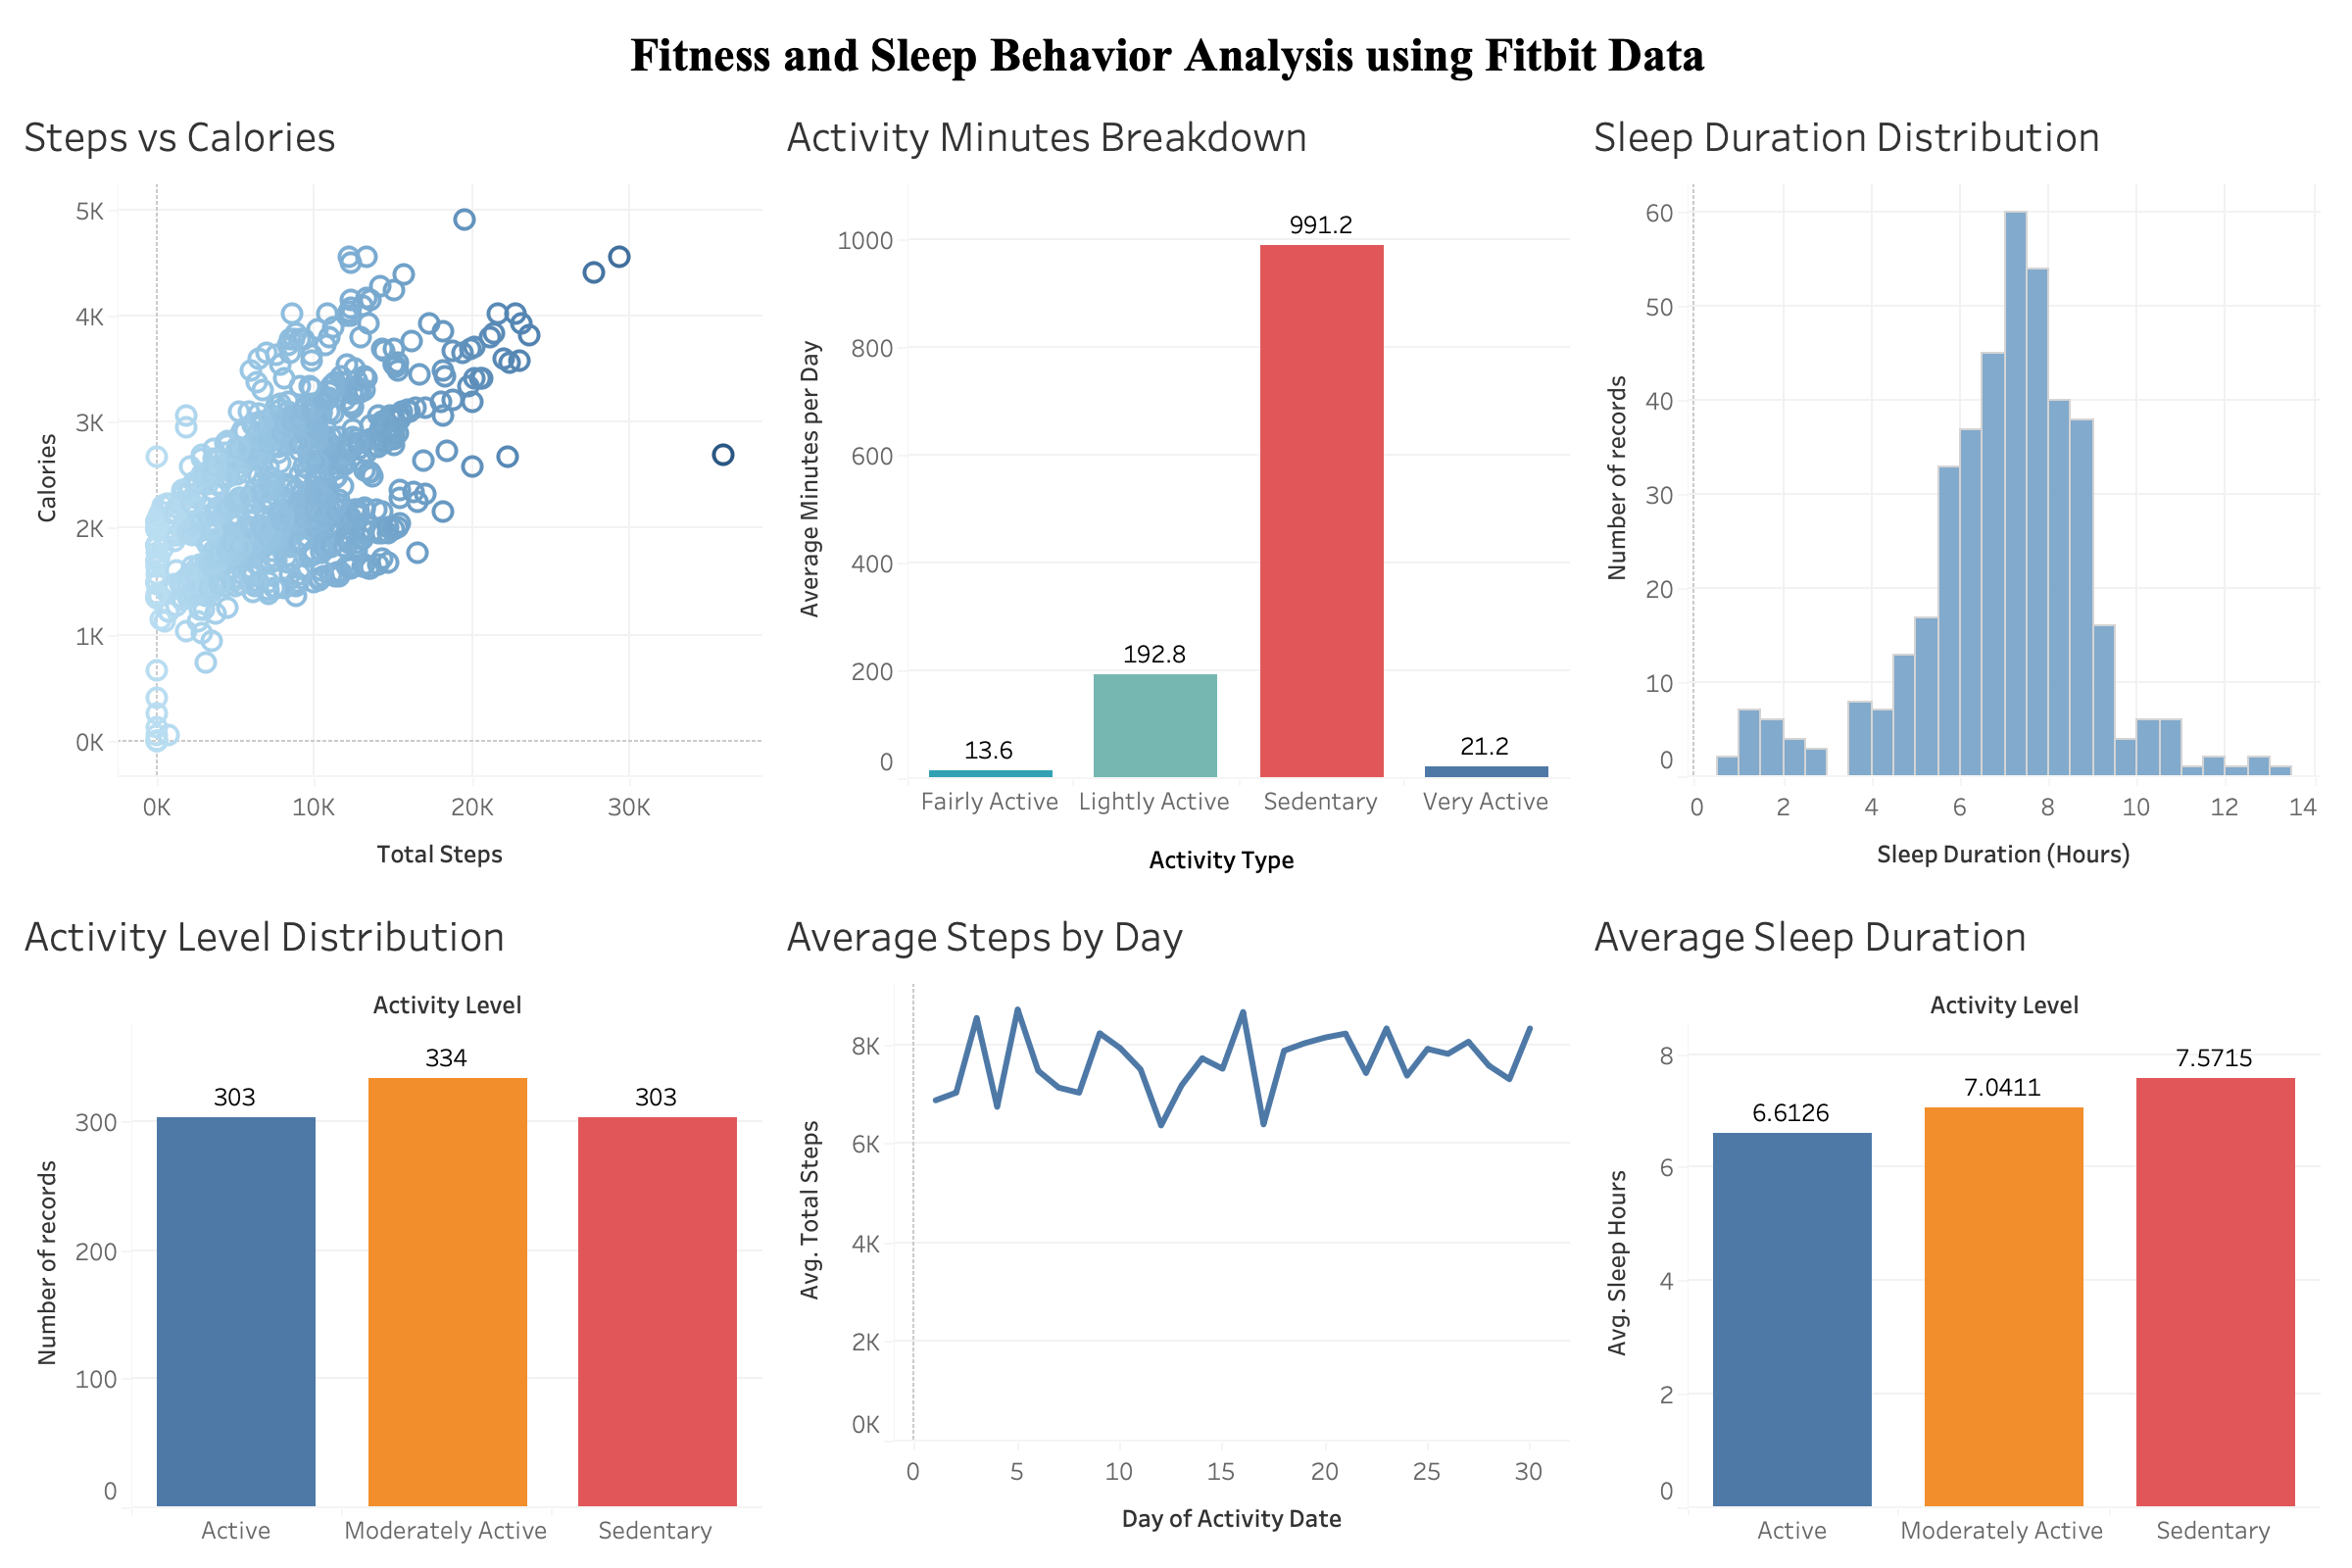

What the dashboard file says about the page in this screenshot:
{"tool":"tableau","page":{"name":"Fitness & Sleep Behavior Dashboard","canvas":[1200,800],"ordinal":0},"visuals":[{"type":"text","box":[8,8,1184,36.5]},{"type":"worksheet","title":"Steps vs Calories","mark":"Automatic","rows":["Calories"],"cols":["TotalSteps"],"box":[8,44.5,389,408.4]},{"type":"worksheet","title":"Activity Minutes Breakdown","mark":"Automatic","box":[397,44.5,412,374.5]},{"type":"worksheet","title":"Sleep Duration Distribution","mark":"Automatic","rows":["TotalMinutesAsleep"],"cols":["Sleep Hours (bin)"],"box":[809,44.5,383,408.4]},{"type":"text","box":[397,419,412,33.9]},{"type":"worksheet","title":"Activity Level Distribution","mark":"Bar","rows":["Id"],"cols":["Calculation_0144083947765762"],"box":[8,453,389,339]},{"type":"worksheet","title":"Average Steps by Day","mark":"Line","rows":["TotalSteps"],"cols":["ActivityDate"],"box":[397,453,412,339]},{"type":"worksheet","title":"Average Sleep Duration","mark":"Automatic","rows":["Calculation_0144083950764035"],"cols":["Calculation_0144083947765762"],"box":[809,453,383,339]}]}

Visuals, with their boxes in screenshot pixels (x1, y1, x2, y2), scaled from the page's 1200x800 canvas onto the 2352x1568 screenshot:
text: region(16, 16, 2336, 87)
"Steps vs Calories" worksheet: region(16, 87, 778, 888)
"Activity Minutes Breakdown" worksheet: region(778, 87, 1586, 821)
"Sleep Duration Distribution" worksheet: region(1586, 87, 2336, 888)
text: region(778, 821, 1586, 888)
"Activity Level Distribution" worksheet (Bar marks): region(16, 888, 778, 1552)
"Average Steps by Day" worksheet (Line marks): region(778, 888, 1586, 1552)
"Average Sleep Duration" worksheet: region(1586, 888, 2336, 1552)
